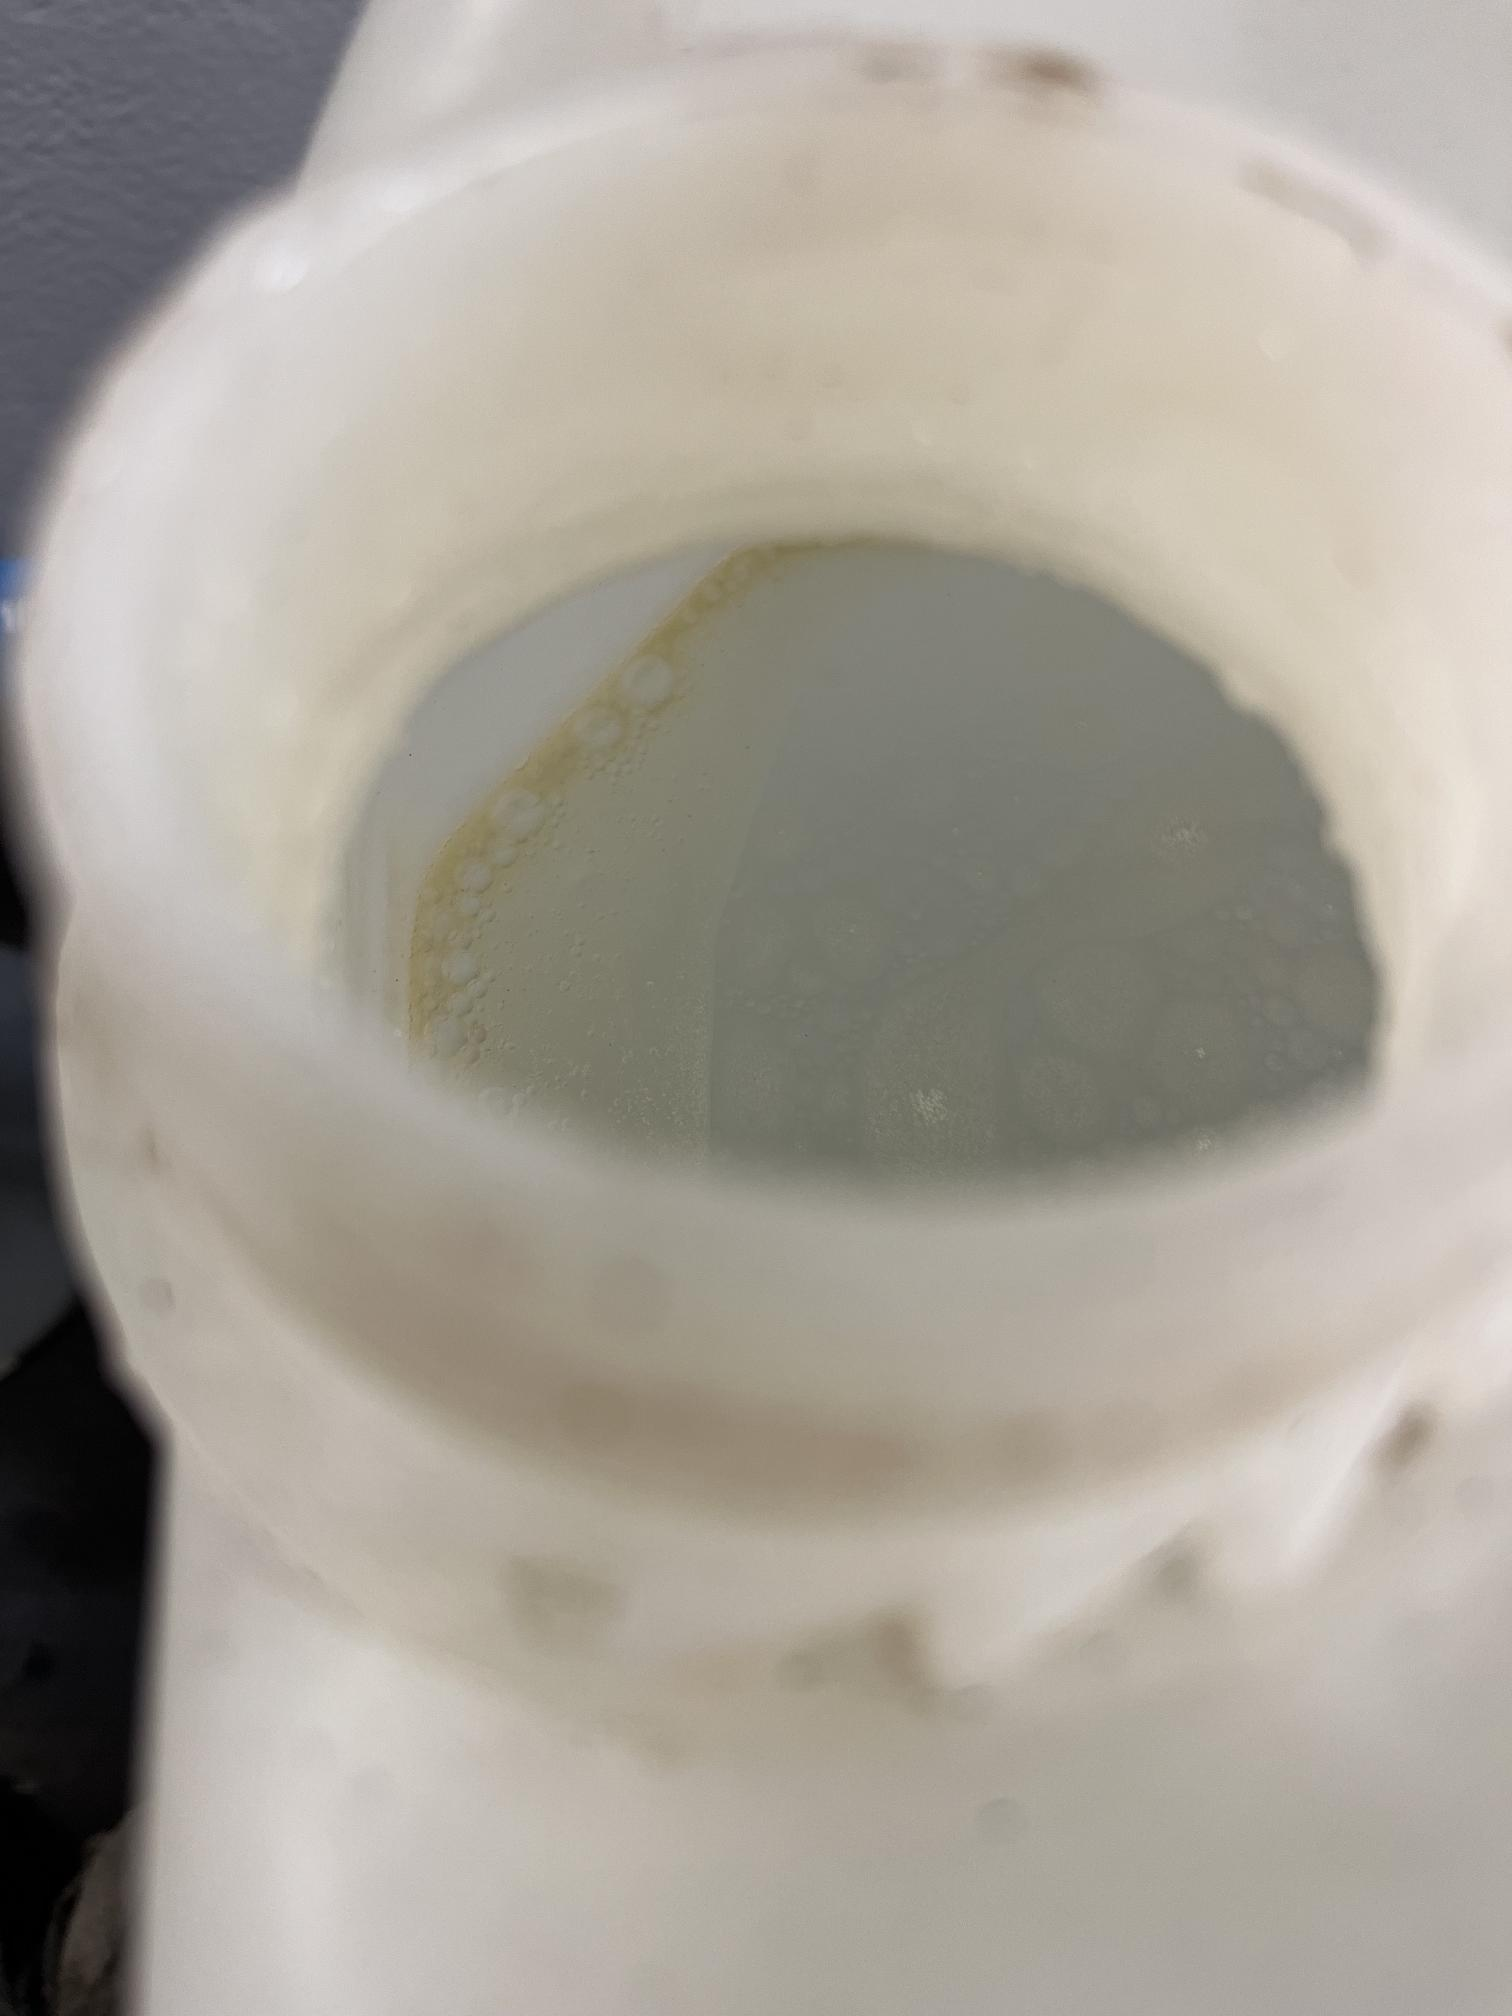Presenca de Oleo - - 110ml: (175, 230, 1485, 1510)
